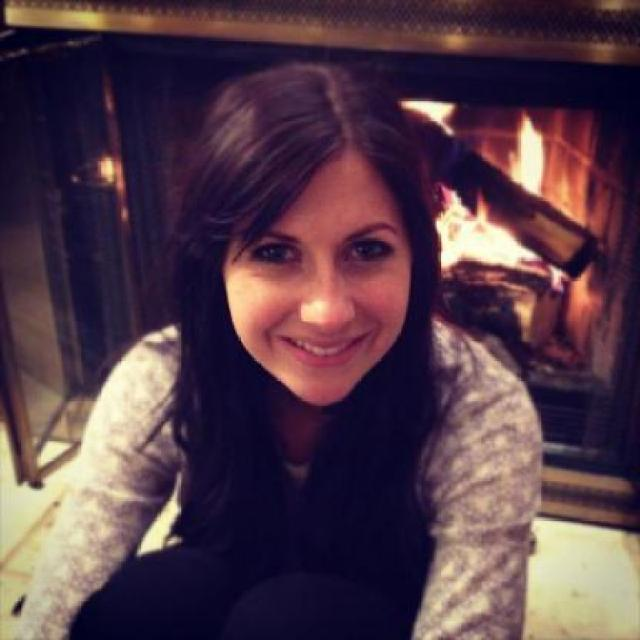Fire: (434, 188, 543, 275), (516, 117, 546, 188), (399, 98, 456, 135)
